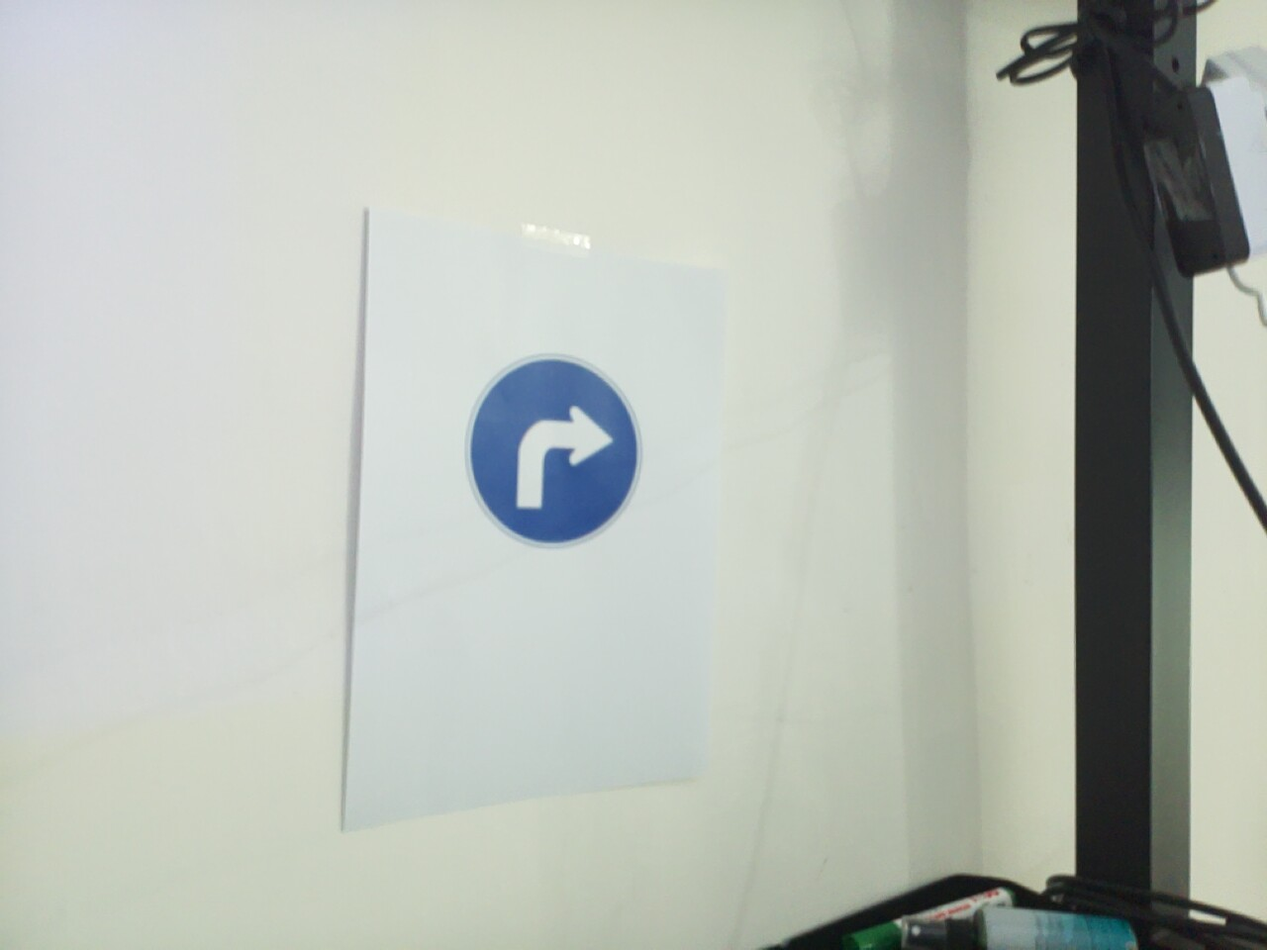right_turn: (463, 352, 644, 550)
